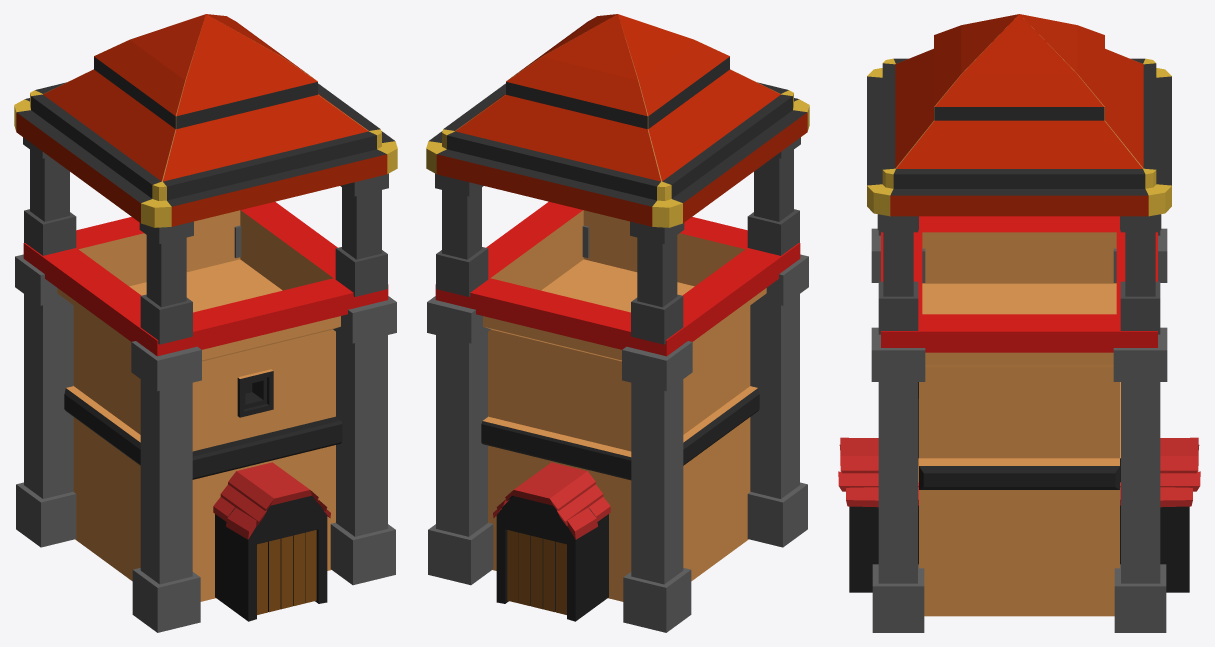
The model's file is Real Fire Tower.fbx.
The picture shows the model from 3 angles, left to right: view 1: azimuth 30°, elevation 25°; view 2: azimuth 150°, elevation 25°; view 3: azimuth 270°, elevation 25°; orthographic projection. The views are drawn at different scales.
Parts seen in each view (by area): view 1: Cube, Cube.005, Cube.001, Cube.003, Cube.002; view 2: Cube, Cube.005, Cube.001, Cube.003, Cube.002; view 3: Cube, Cube.005, Cube.001, Cube.003, Cube.002.
Boxes of the visible parts, bbox=[...] form: Cube: bbox=[23, 202, 388, 601]; Cube.005: bbox=[14, 14, 397, 227]; Cube.001: bbox=[15, 225, 396, 632]; Cube.003: bbox=[213, 462, 330, 621]; Cube.002: bbox=[23, 137, 388, 344]; Cube: bbox=[435, 202, 800, 601]; Cube.005: bbox=[426, 14, 809, 227]; Cube.001: bbox=[427, 225, 808, 632]; Cube.003: bbox=[493, 462, 610, 621]; Cube.002: bbox=[435, 137, 800, 344]; Cube: bbox=[881, 216, 1157, 616]; Cube.005: bbox=[867, 14, 1171, 216]; Cube.001: bbox=[871, 228, 1167, 632]; Cube.003: bbox=[838, 437, 1200, 592]; Cube.002: bbox=[877, 214, 1161, 334].
Size of the model in its own units: 426 by 862 by 505.
